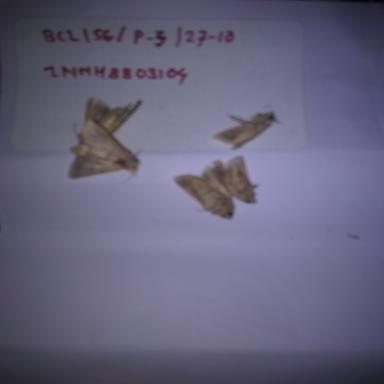abw: (60, 117, 144, 182), (168, 160, 240, 222), (204, 105, 286, 150), (76, 90, 142, 144), (202, 154, 261, 208)
